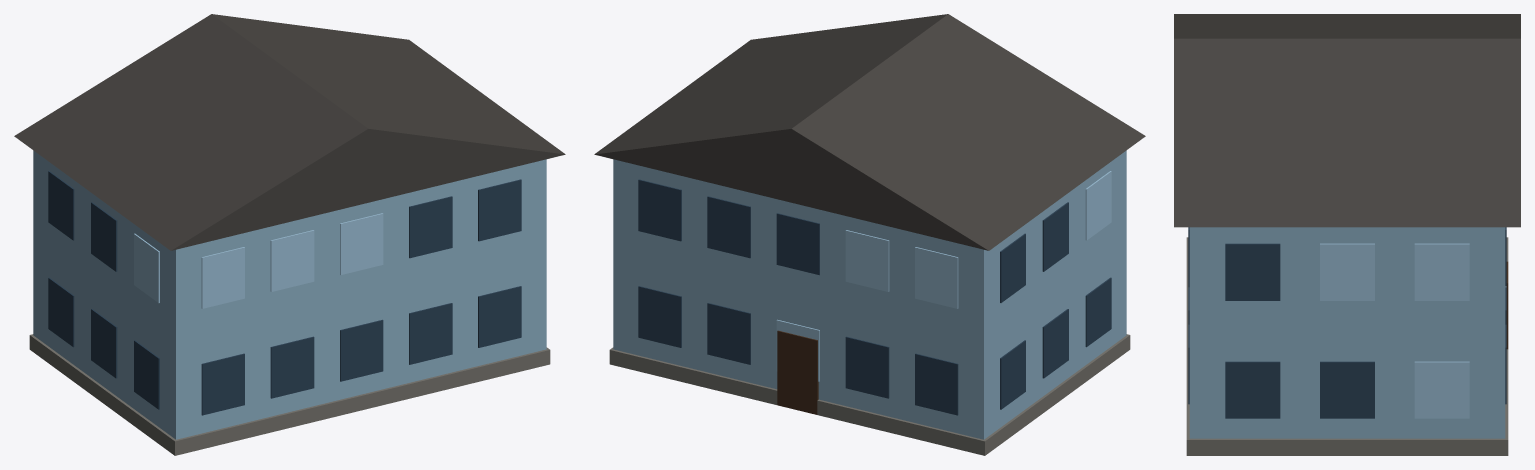
The model's file is bld_house_b.glb.
3 renders of one model, left to right at view 1: azimuth 30°, elevation 25°; view 2: azimuth 150°, elevation 25°; view 3: azimuth 270°, elevation 25°, orthographic. The views are drawn at different scales.
Visible parts, largest first — view 1: bld_house_b__mesh; view 2: bld_house_b__mesh; view 3: bld_house_b__mesh.
Part boxes in pixels (x1,y1,x2,y2): bld_house_b__mesh: (14,14,565,455); bld_house_b__mesh: (594,14,1145,455); bld_house_b__mesh: (1174,14,1520,455).
Bounding box in the file's own units: 12.8 × 8.84 × 8.8.
